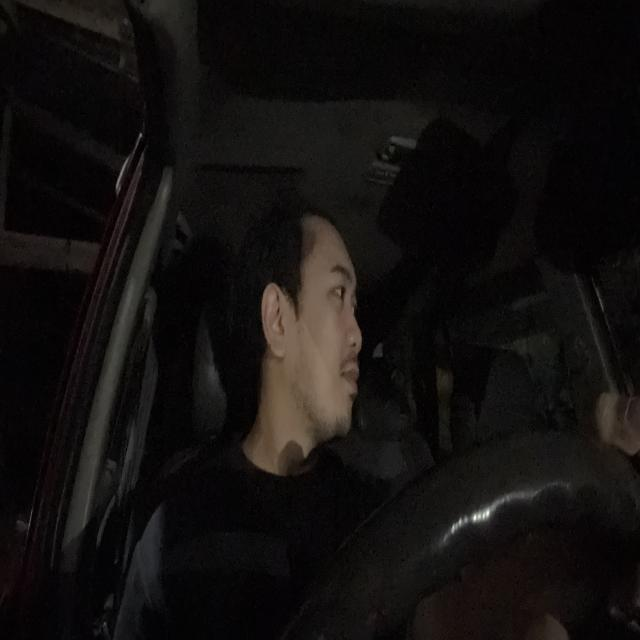open: (322, 263, 350, 310)
